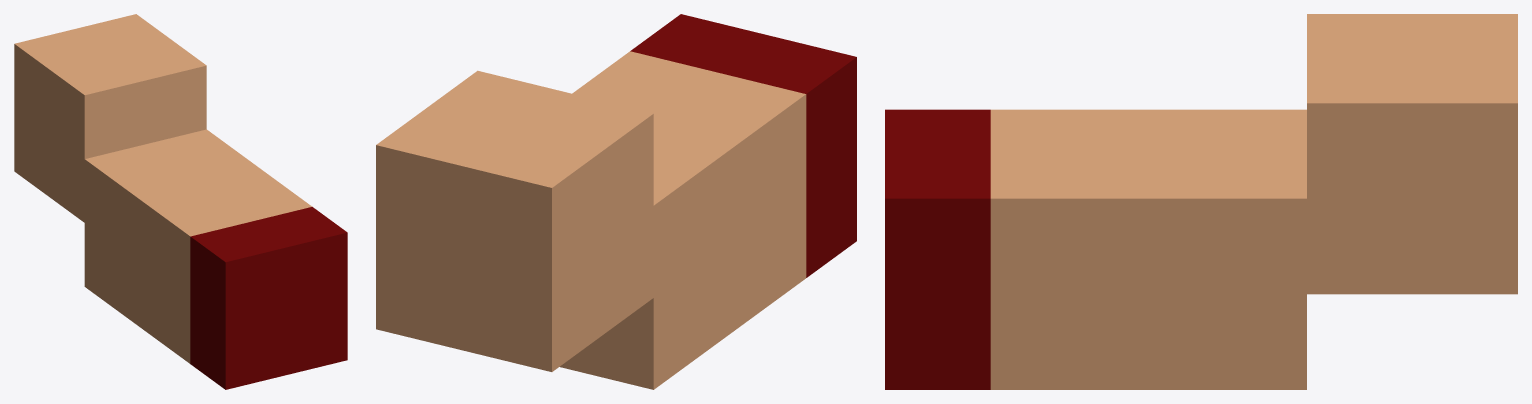
Rendered from cutFinger.obj.
The picture shows the model from 3 angles, left to right: view 1: azimuth 30°, elevation 25°; view 2: azimuth 150°, elevation 25°; view 3: azimuth 270°, elevation 25°; orthographic projection. The views are drawn at different scales.
Bounding box in the file's own units: 0.2 × 0.3 × 0.6.
